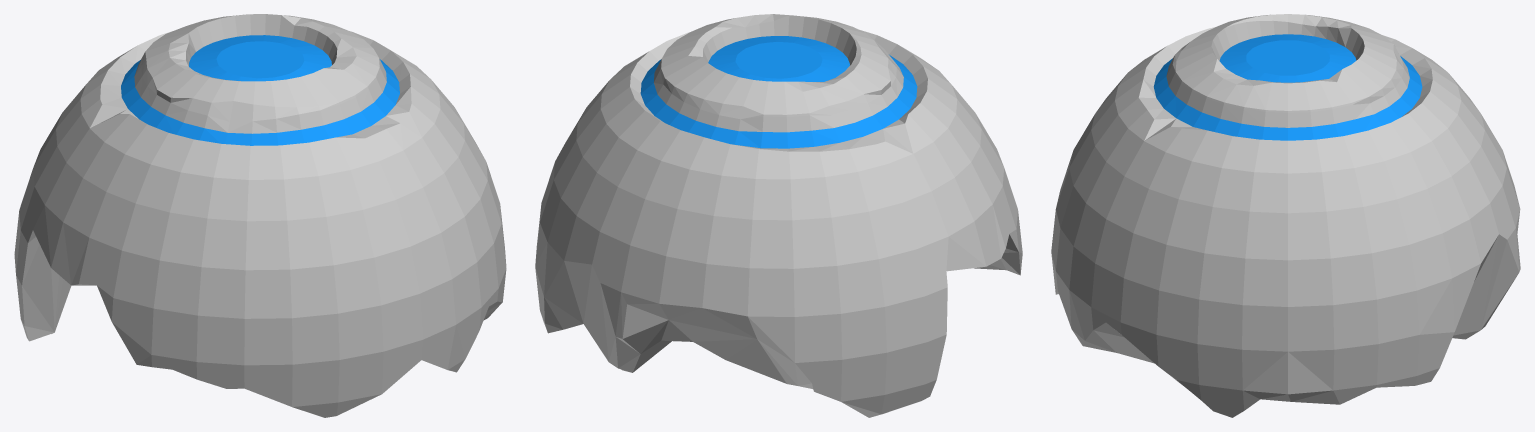
File: Turret_Beam.fbx
3 renders of one model, left to right at view 1: azimuth 30°, elevation 25°; view 2: azimuth 150°, elevation 25°; view 3: azimuth 270°, elevation 25°, orthographic. The views are drawn at different scales.
Parts seen in each view (by area): view 1: SK_Turret_Beam.mo; view 2: SK_Turret_Beam.mo; view 3: SK_Turret_Beam.mo.
Boxes of the visible parts, <box> form: SK_Turret_Beam.mo: <box>14,14,506,417</box>; SK_Turret_Beam.mo: <box>535,14,1022,417</box>; SK_Turret_Beam.mo: <box>1051,14,1520,417</box>.
Bounding box in the file's own units: 157 × 106 × 157.
